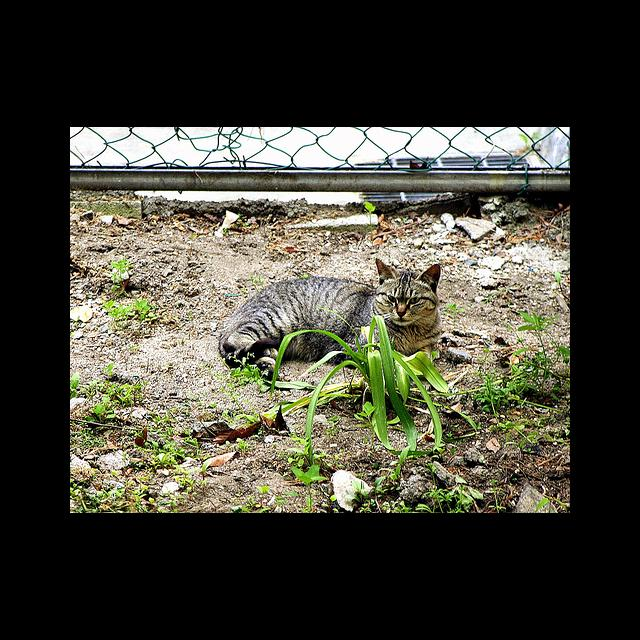animals: (376, 258, 438, 315)
